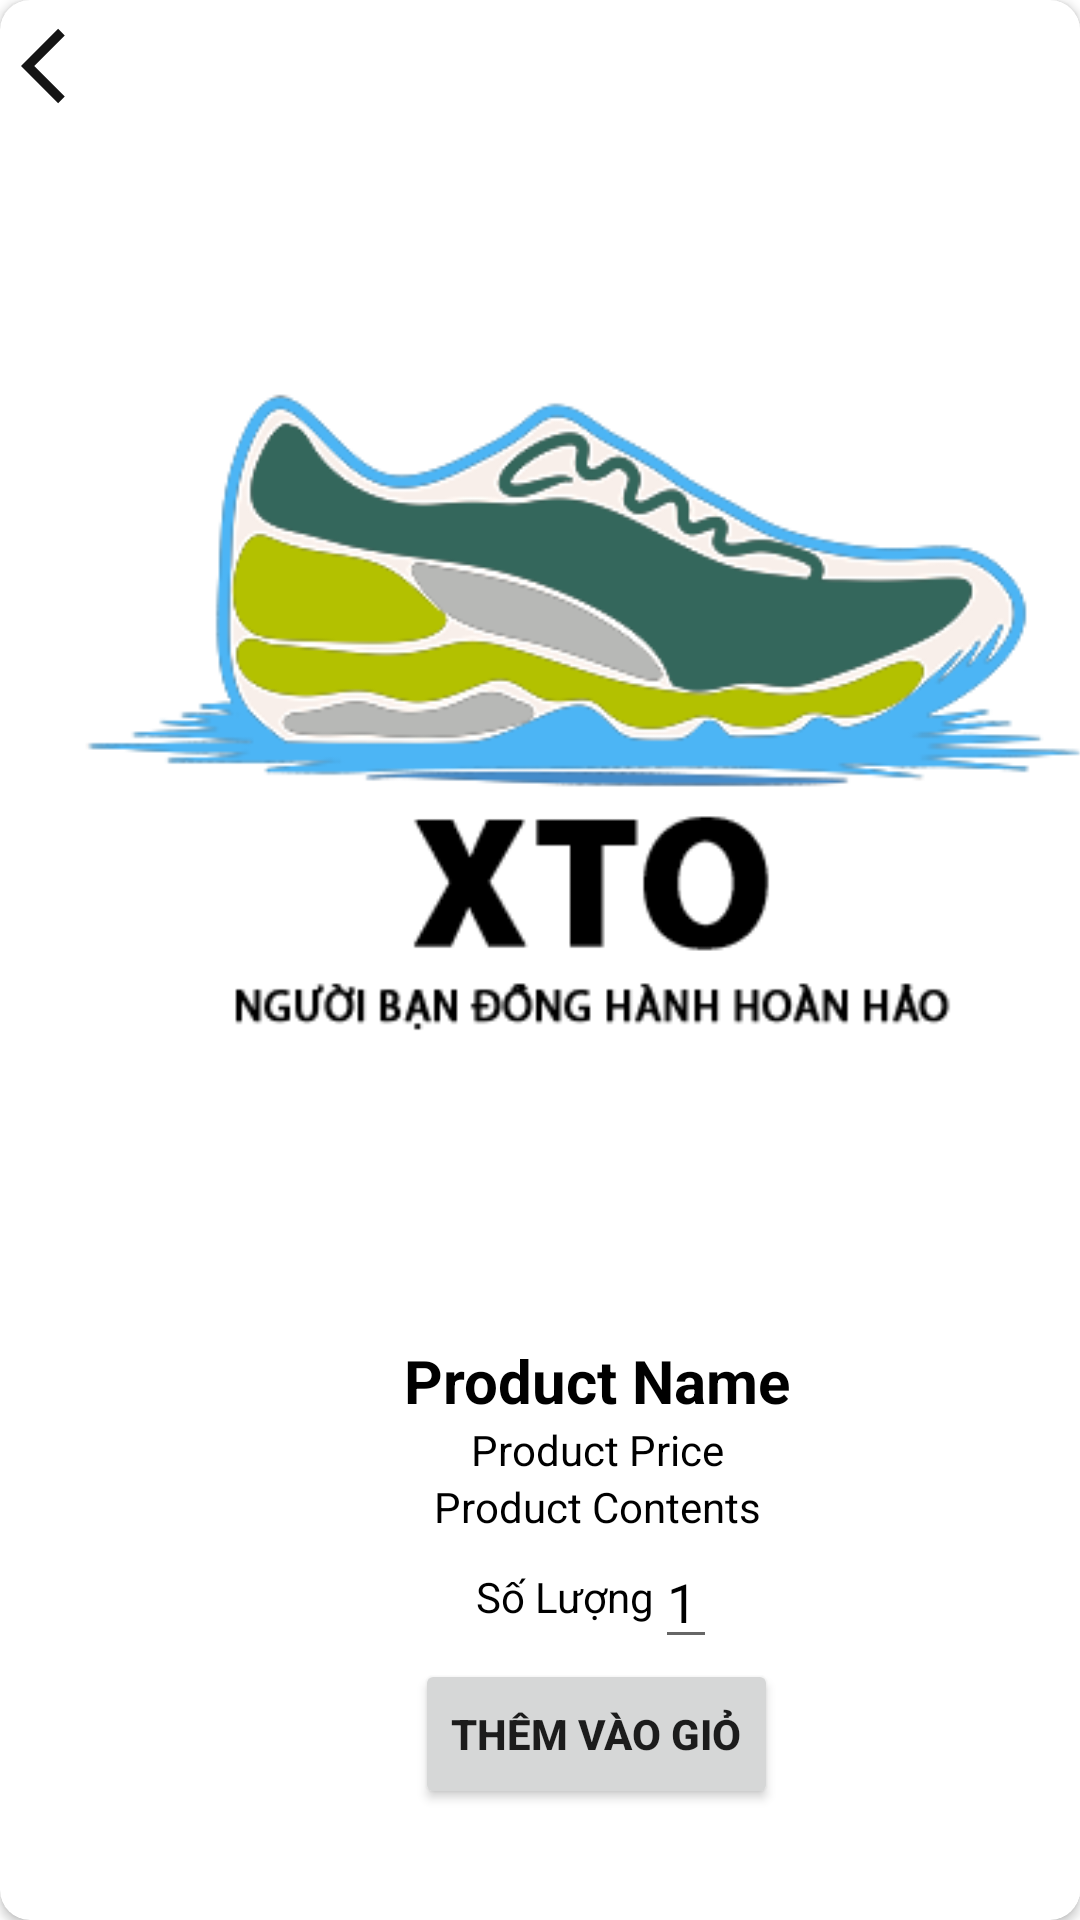

Named icons in this screenshot (1080x1920) and their centers, [x,y]:
quaylai: [43,66]
